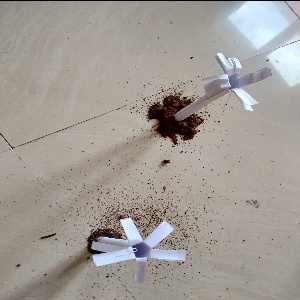weed: (86, 217, 192, 276), (172, 62, 267, 124)
